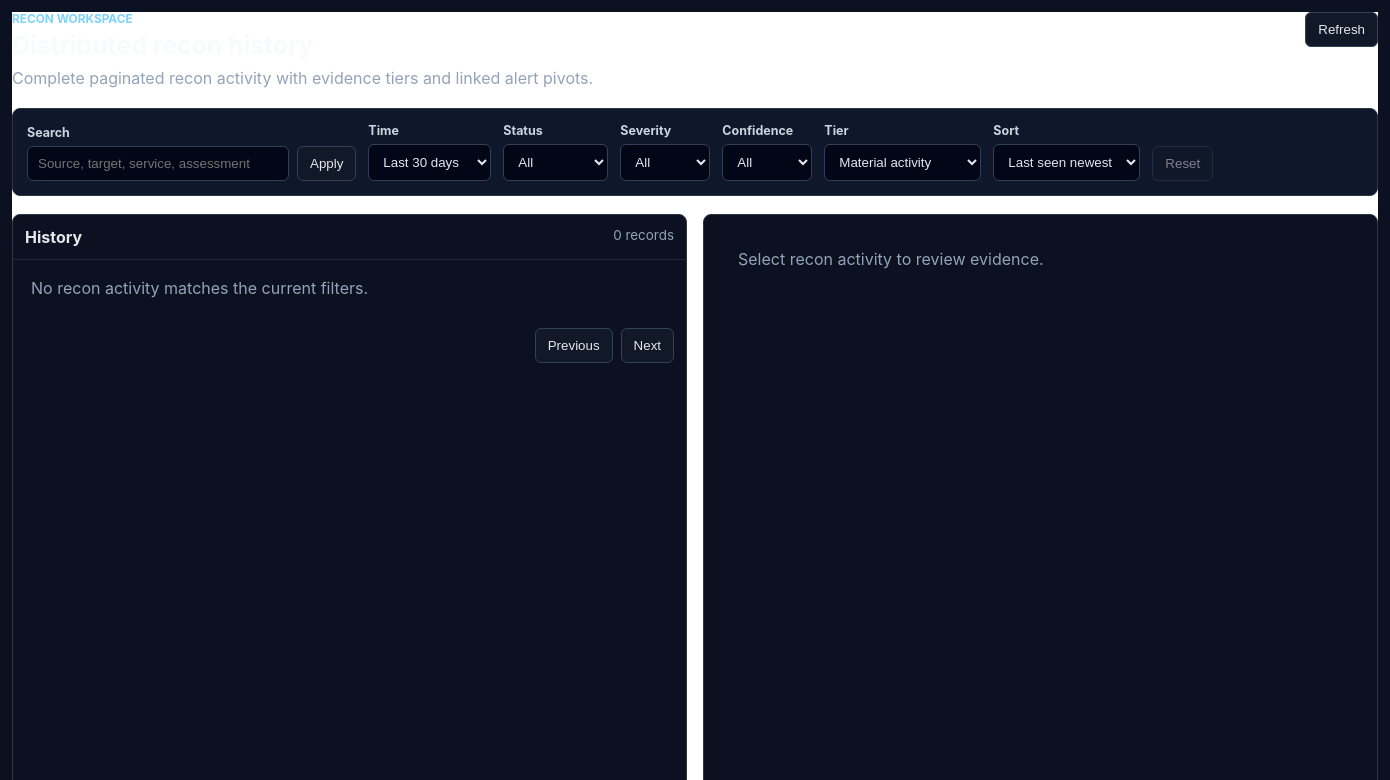
it: allows explicit review of recon candidates as evidence pivots
Expected: the text "No recon activity matches the current filters." is shown, [31, 278, 368, 298]
Select "Recon Candidate" in the dropdown labelled "Tier": (903, 162) [824, 144, 981, 181]
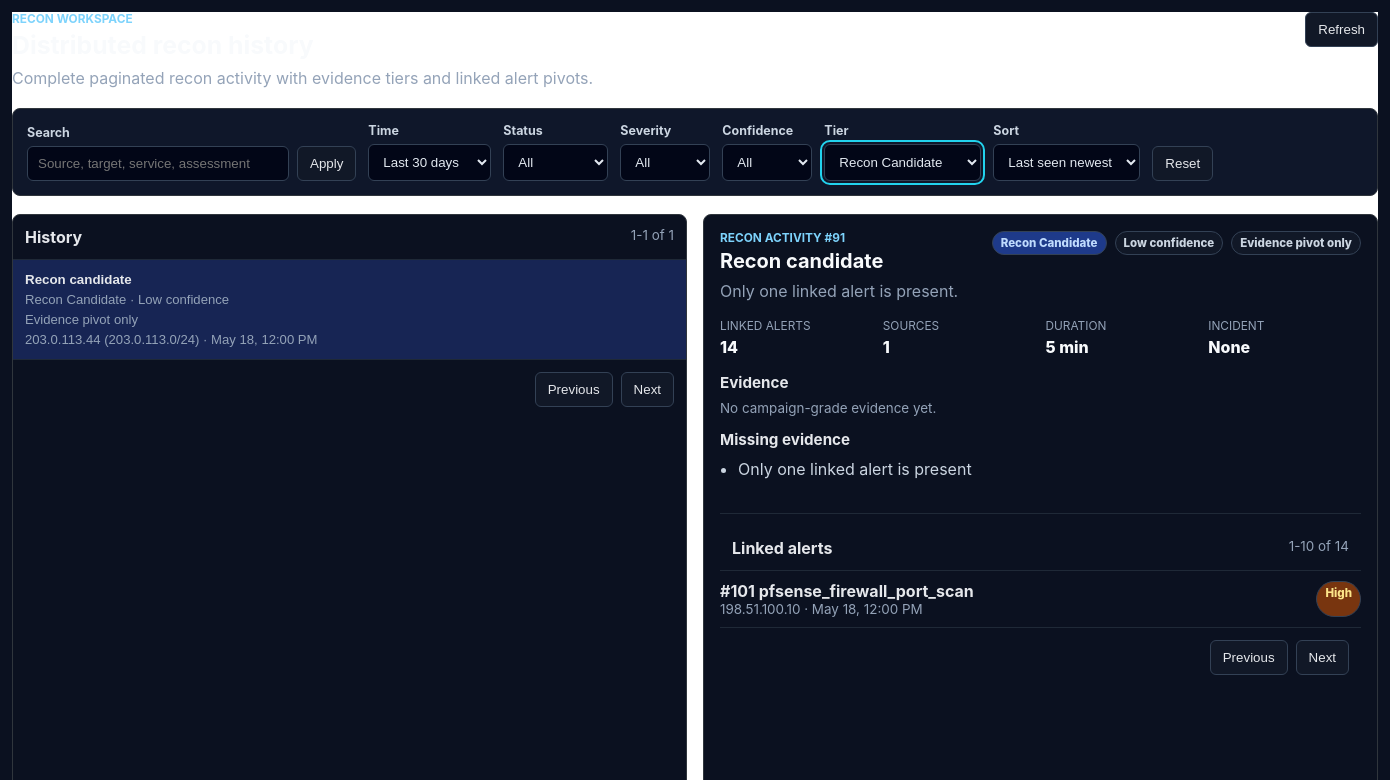
Now the text "Recon candidate" is shown, box [25, 272, 132, 287]
Now the 2nd text "Evidence pivot only" is shown, box [25, 312, 138, 327]
